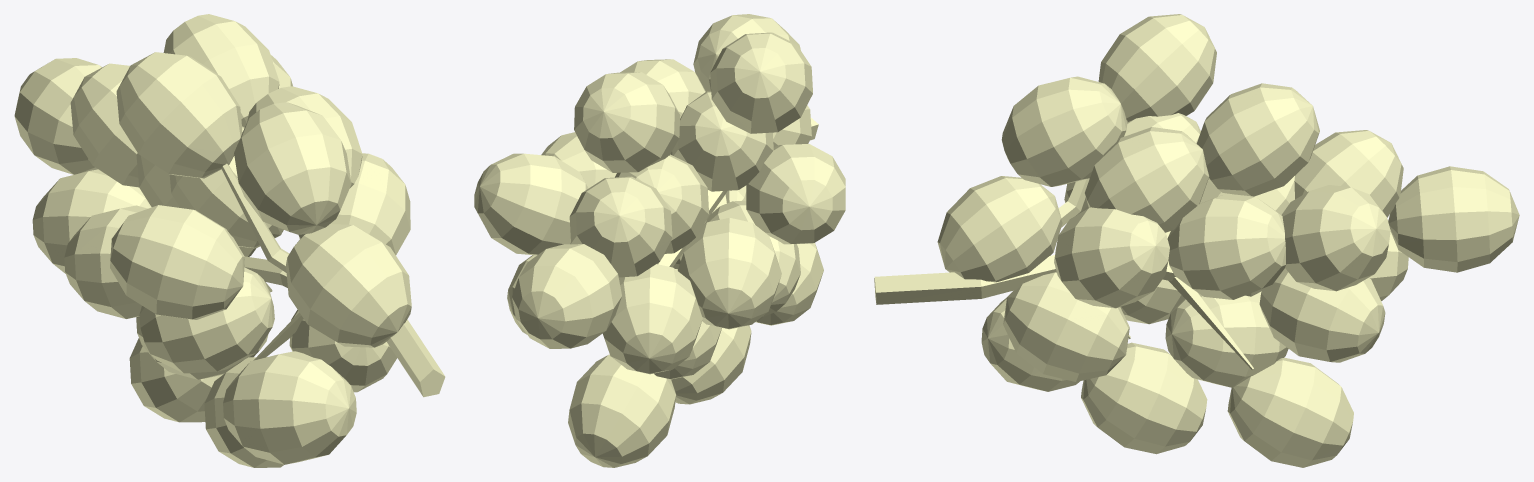
The model's file is grape1_3.dae.
The picture shows the model from 3 angles, left to right: view 1: azimuth 30°, elevation 25°; view 2: azimuth 150°, elevation 25°; view 3: azimuth 270°, elevation 25°; orthographic projection. The views are drawn at different scales.
Parts seen in each view (by area): view 1: grape1_019; view 2: grape1_019; view 3: grape1_019.
Boxes of the visible parts, bbox=[...] form: grape1_019: bbox=[14, 14, 445, 467]; grape1_019: bbox=[474, 14, 845, 467]; grape1_019: bbox=[874, 14, 1519, 467].
Size of the model in its own units: 0.1 by 0.2142 by 0.1483.
